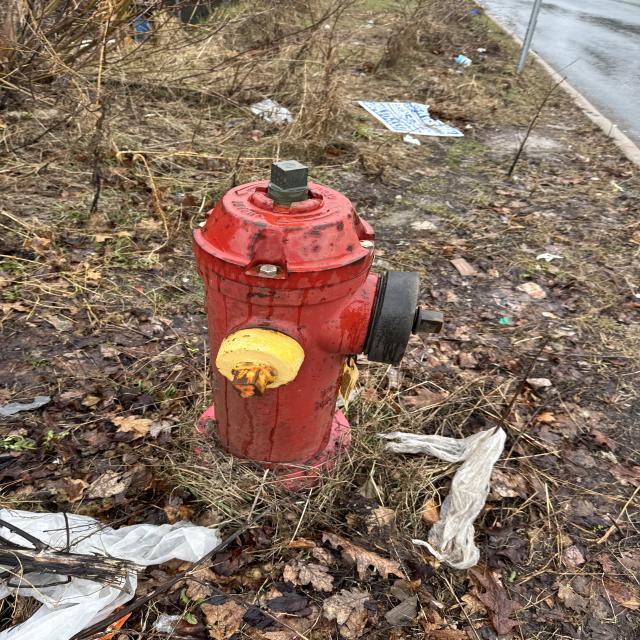Fire hydrant: (191, 160, 445, 491)
